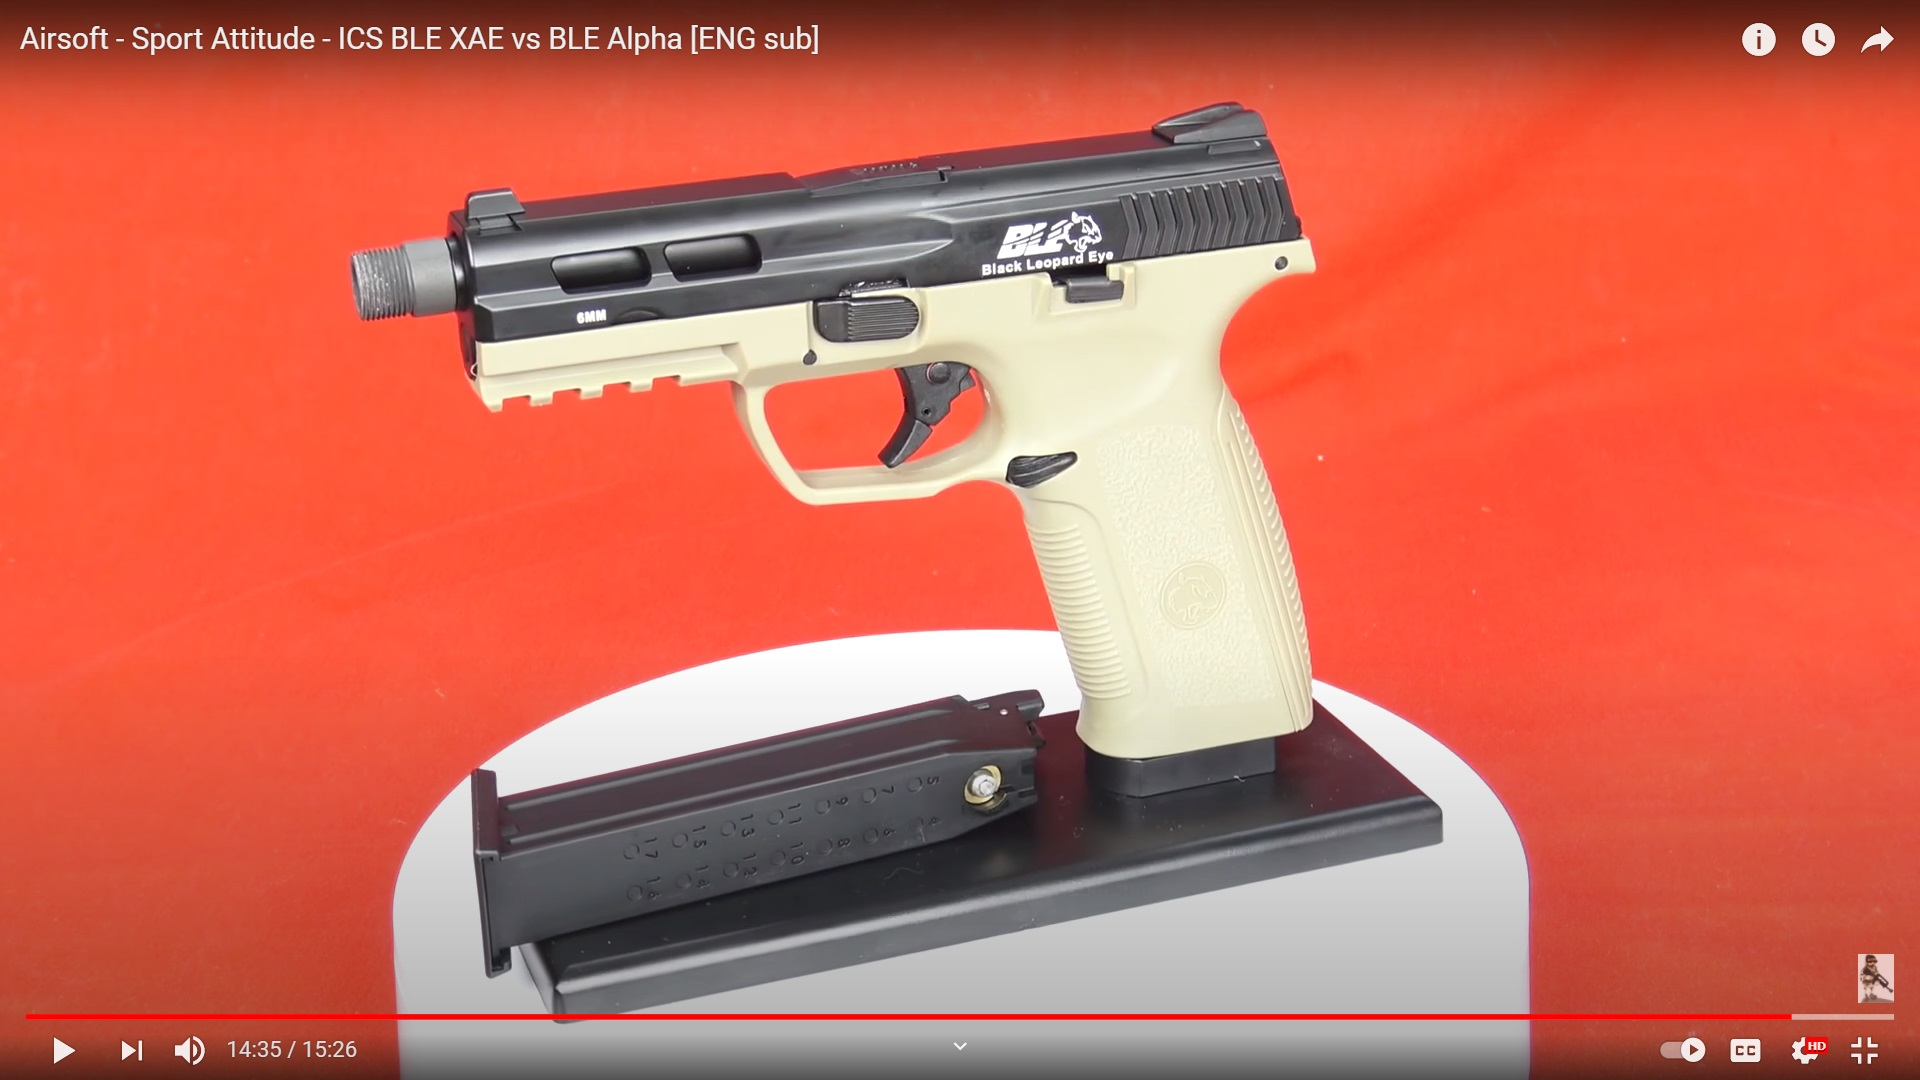asg_ics_ble_xae: (277, 100, 1336, 762)
